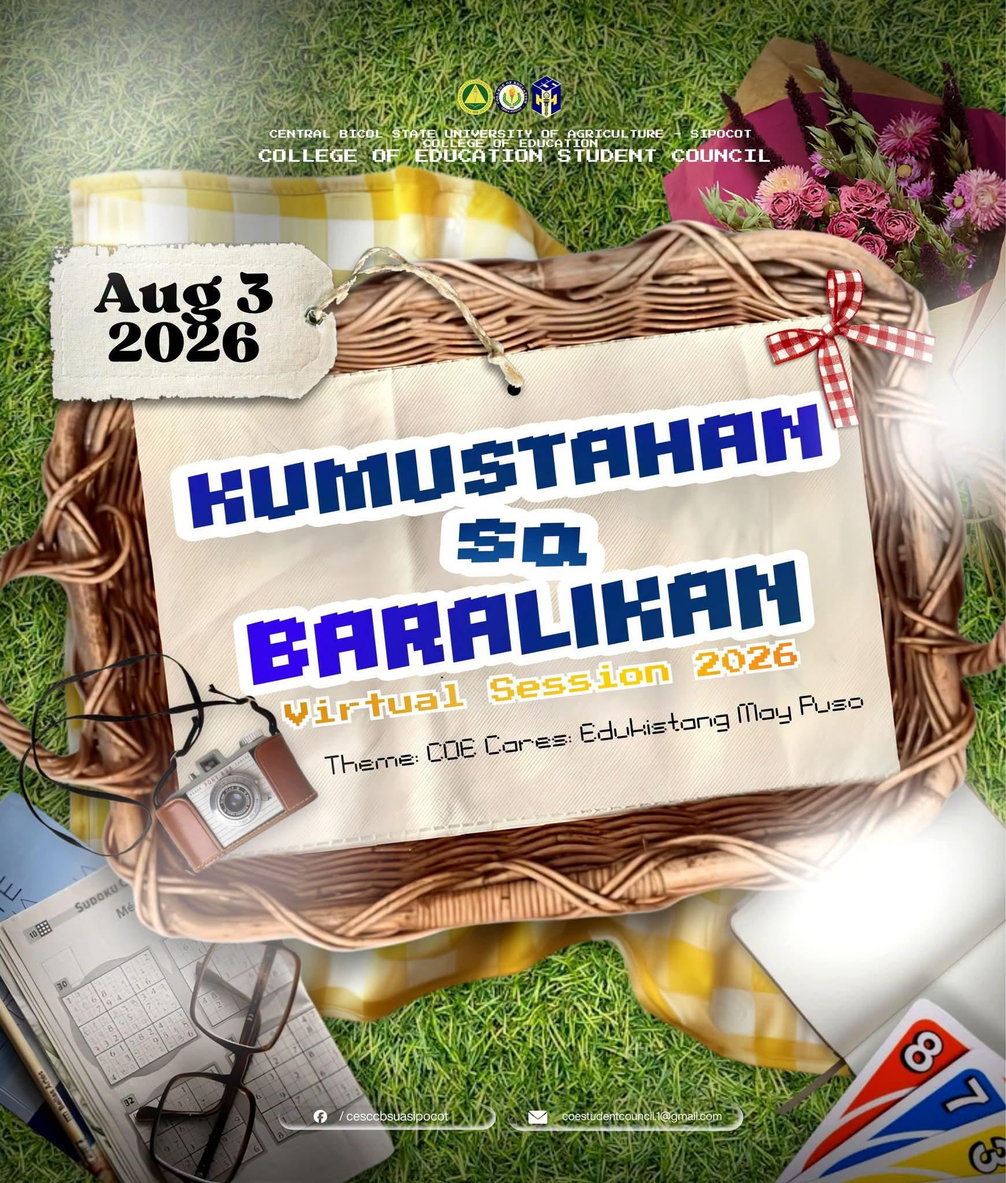embellishment: (15, 649, 317, 875), (769, 269, 940, 428), (526, 1107, 551, 1126), (310, 1106, 330, 1125)
logo: (529, 73, 565, 120), (455, 77, 495, 117), (494, 77, 530, 116)
text: (187, 409, 824, 530), (250, 560, 802, 681), (319, 683, 874, 789), (279, 633, 807, 731), (255, 127, 777, 165), (89, 262, 277, 366), (458, 523, 583, 566), (559, 1108, 726, 1124), (337, 1109, 454, 1124)
underlay: (131, 316, 896, 864), (169, 387, 838, 537), (237, 547, 816, 701), (48, 243, 333, 407), (444, 507, 597, 579), (508, 1103, 743, 1132), (279, 1101, 496, 1130)
